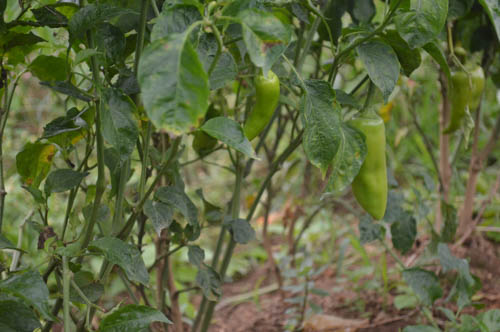ChiliPepper: (349, 115, 386, 222), (247, 73, 281, 142), (446, 70, 469, 139), (469, 70, 488, 110)
